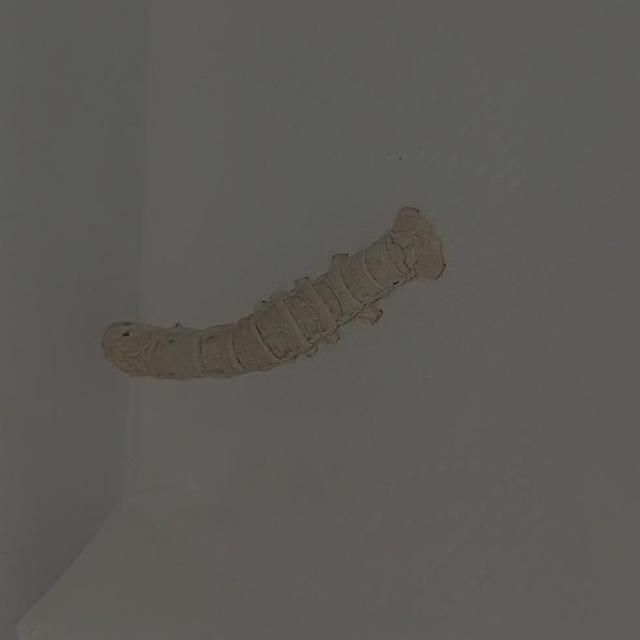Healthy: (92, 200, 452, 383)
